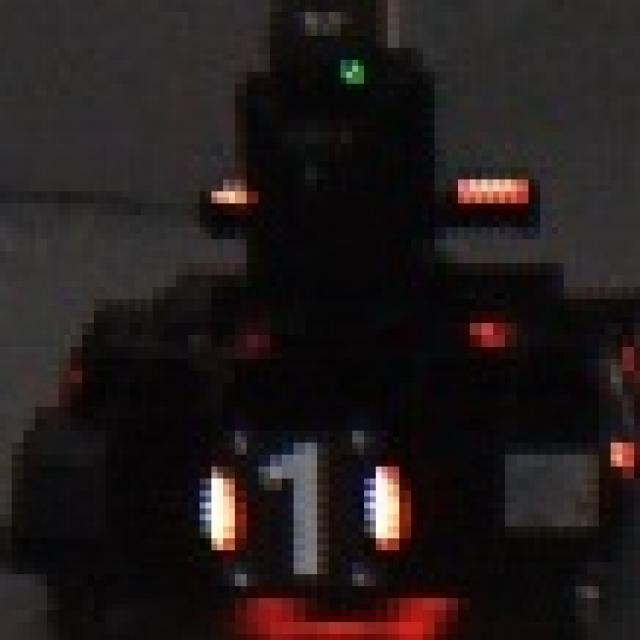R1: (200, 437, 399, 568)
